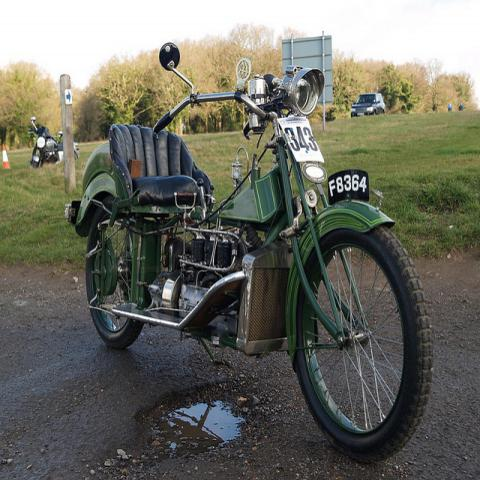car: (351, 93, 386, 117)
motorcycle: (62, 37, 436, 468), (28, 115, 81, 173)
truck: (350, 94, 386, 118)
